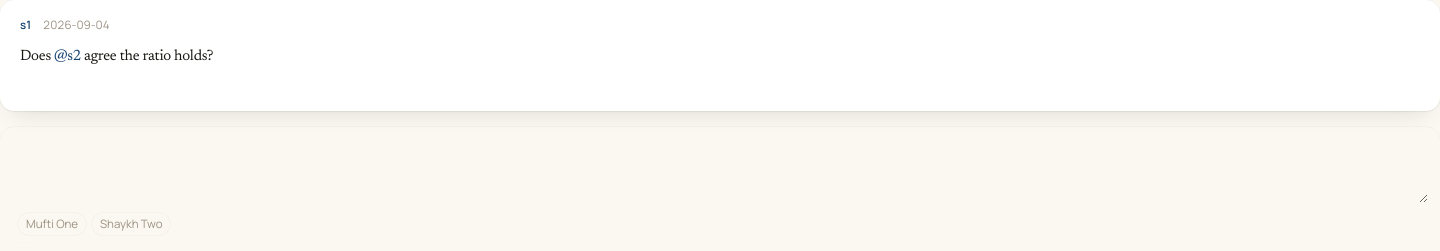
the composer offers the board and nobody else › does not run two names together
Click the button "Mufti One" at (52, 224), box [18,213,86,235]
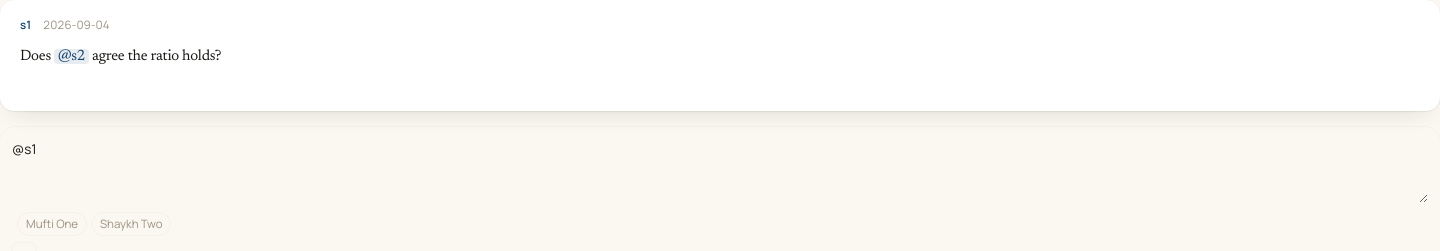
Click the button "Shaykh Two" at (131, 224), box [92,213,170,235]
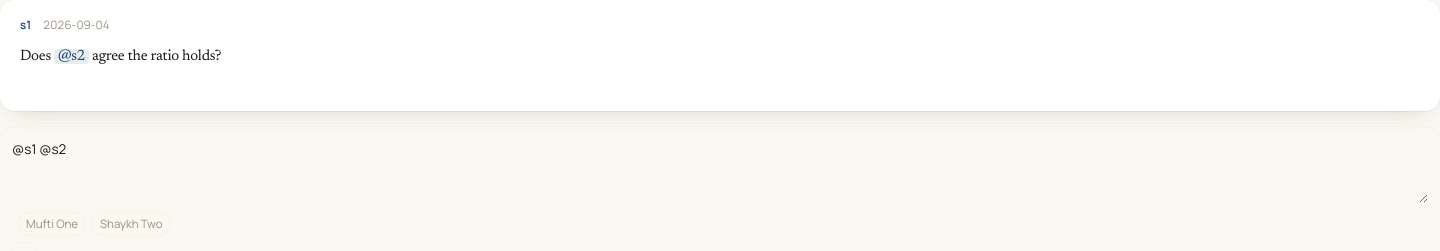
Now the text box holds "@s1 @s2 ", box [12,138,1428,203]
